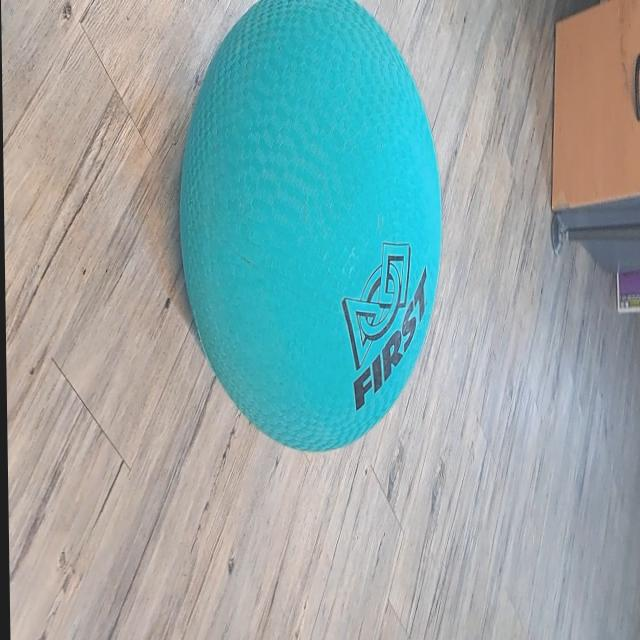ALGAE: (174, 1, 447, 454)
